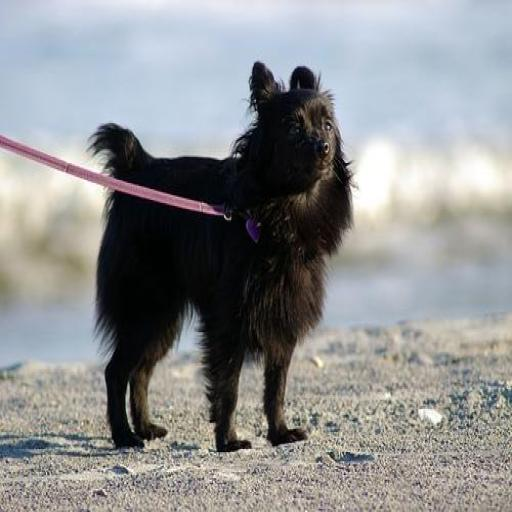dog_face: (246, 64, 337, 190)
